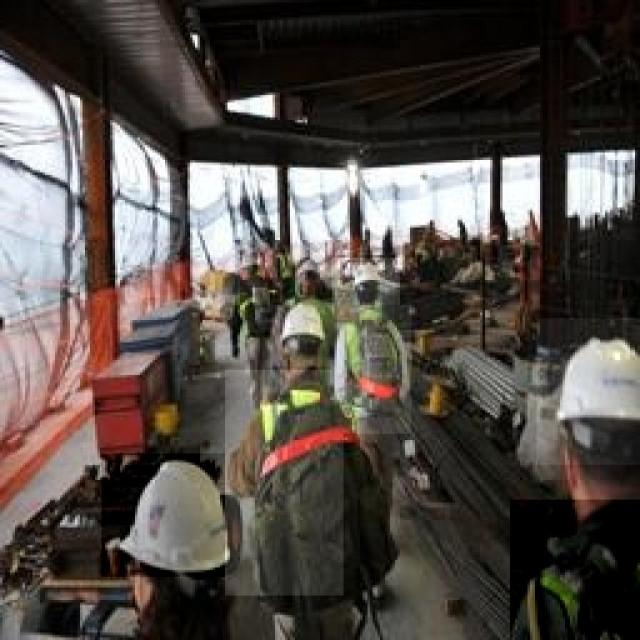Helmet: (102, 453, 254, 577), (536, 318, 640, 465), (272, 299, 350, 366), (332, 258, 400, 314)
Safety Vest: (225, 370, 343, 596), (510, 499, 640, 640), (332, 305, 412, 434)
